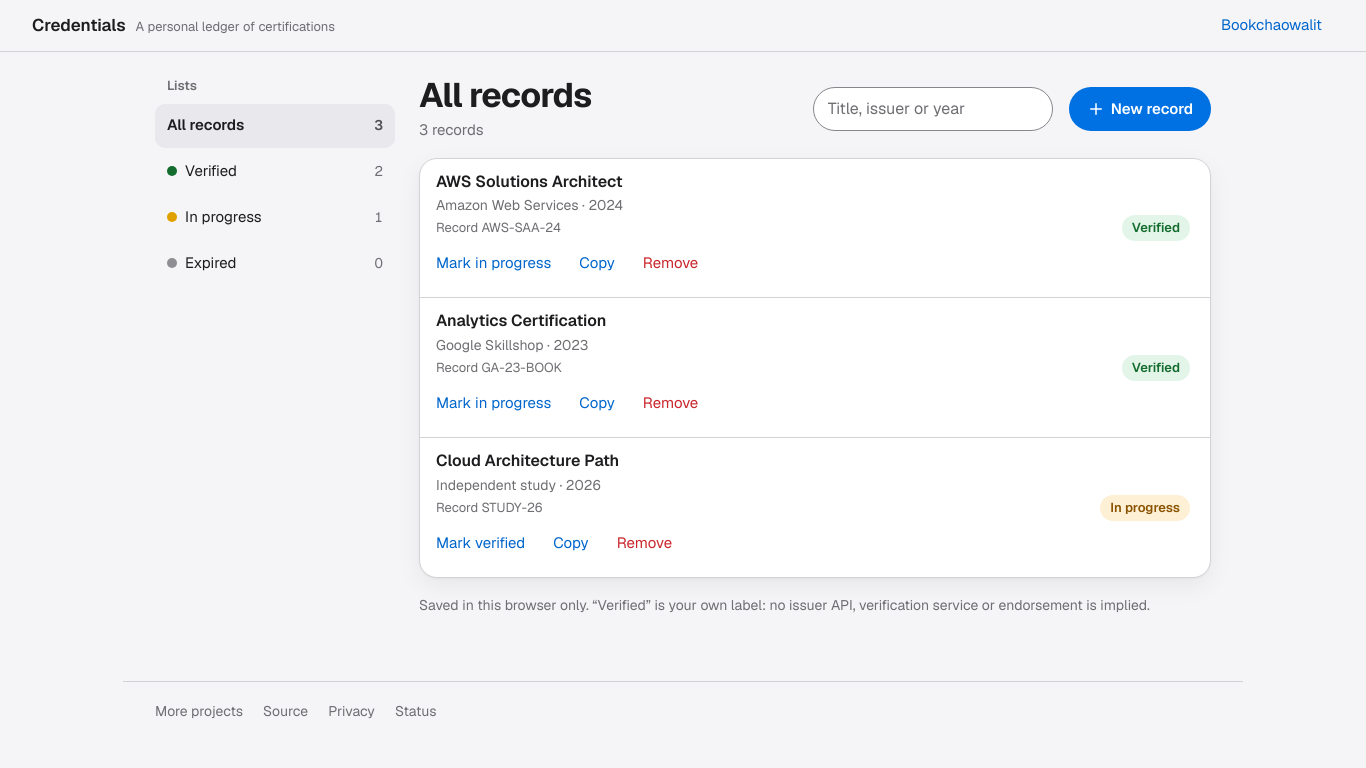
Test: lists and search › filters by state from the sidebar and counts each list
expect the button "Verified 2" is shown: met, box [155,150,395,194]
Click the button "In progress 1": [275, 218] box [155,196,395,240]
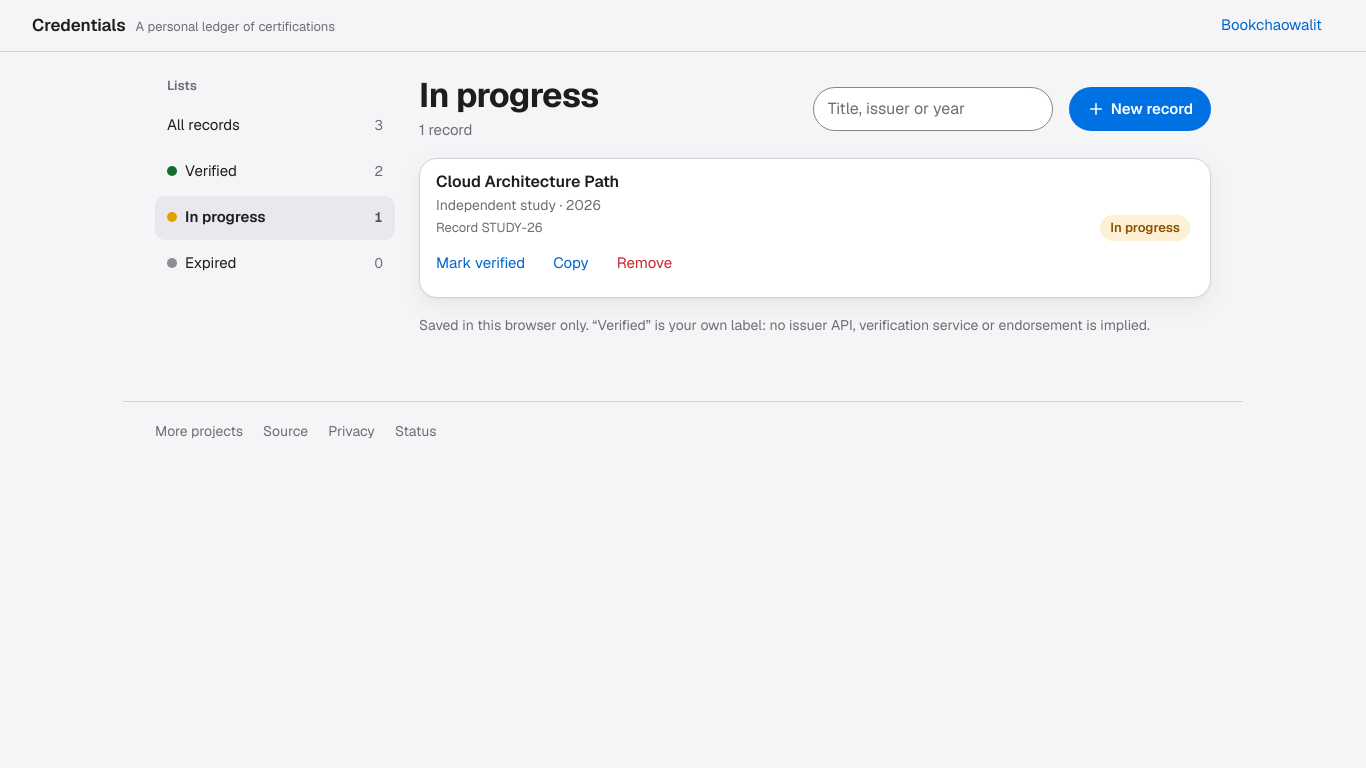
expect the heading "In progress" is shown: met, box [419,76,599,115]
